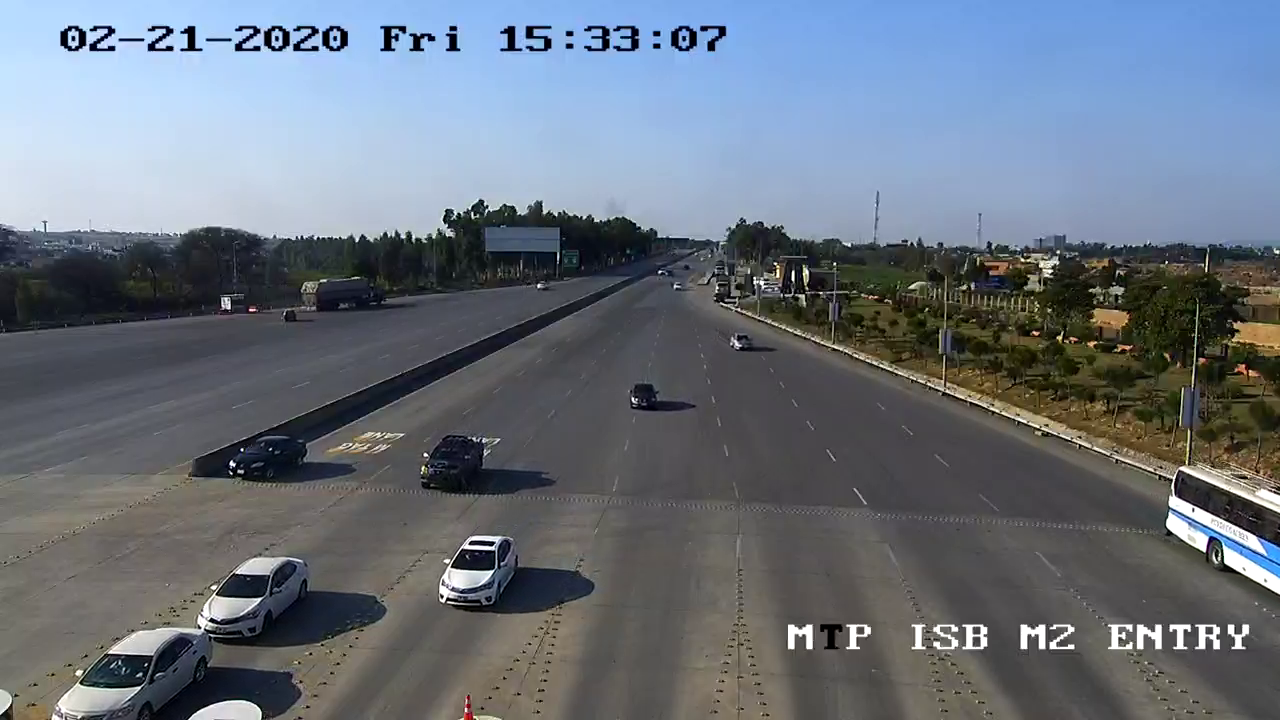f1: (186, 549, 319, 646), (428, 523, 526, 621), (415, 426, 489, 504), (217, 429, 315, 486), (614, 375, 672, 415)
